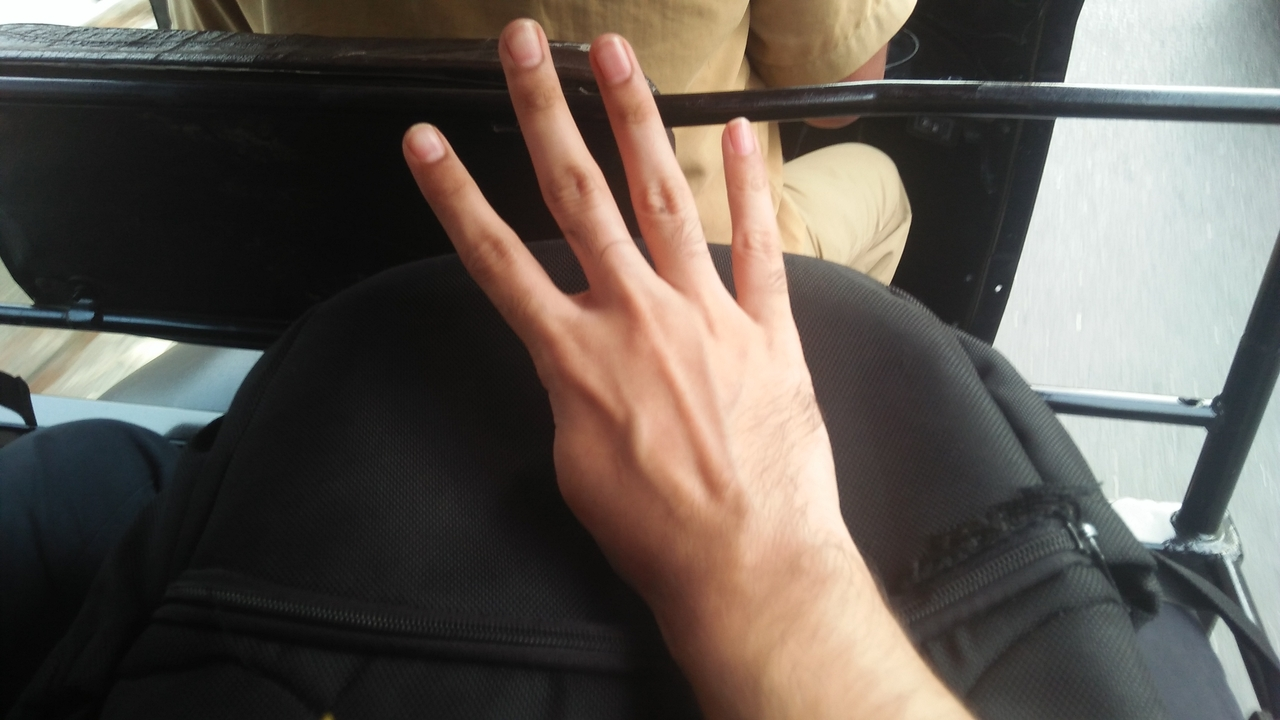fingertip: (396, 114, 456, 174), (492, 14, 548, 74), (584, 26, 640, 86), (716, 108, 768, 160)
